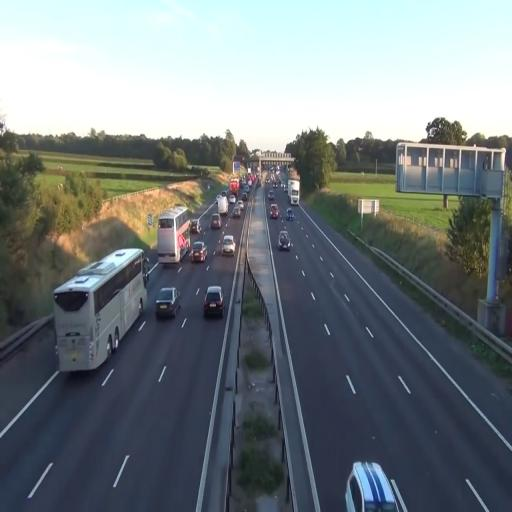vehicle: (52, 247, 147, 375), (345, 460, 409, 512), (157, 207, 193, 263), (155, 285, 180, 322), (203, 285, 224, 319), (191, 241, 207, 265), (222, 233, 236, 256), (278, 227, 291, 251), (286, 207, 294, 220)
